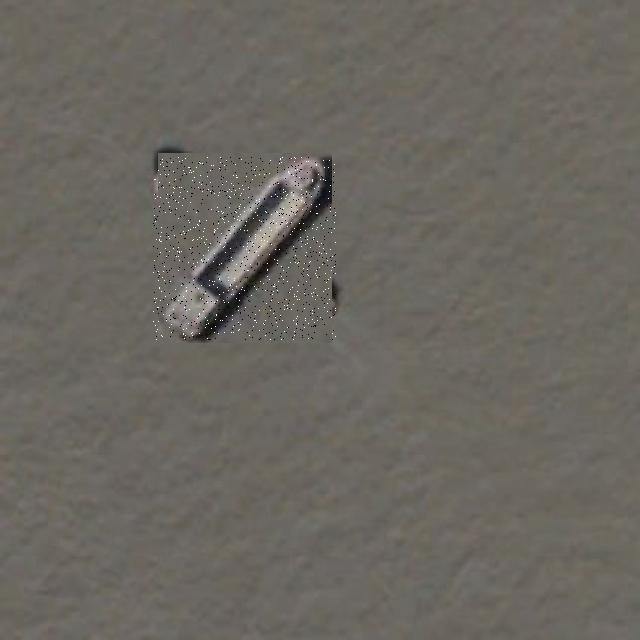boat: (153, 157, 336, 340)
